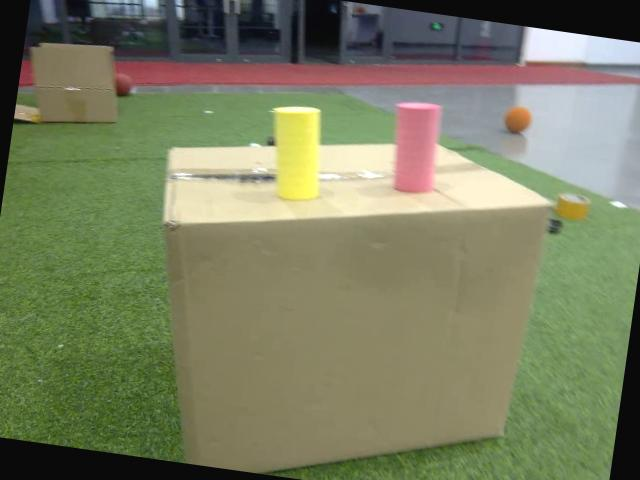orange_ball: (501, 102, 534, 138)
red_ball: (114, 72, 136, 98)
red_cylinder: (382, 94, 450, 198)
yellow_cylinder: (258, 101, 336, 208)
